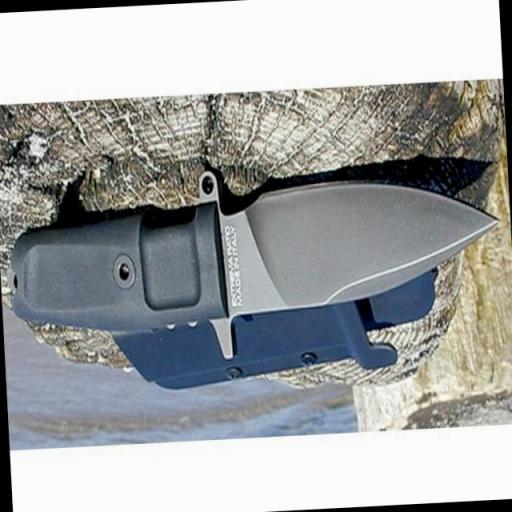knife: (227, 160, 512, 330)
